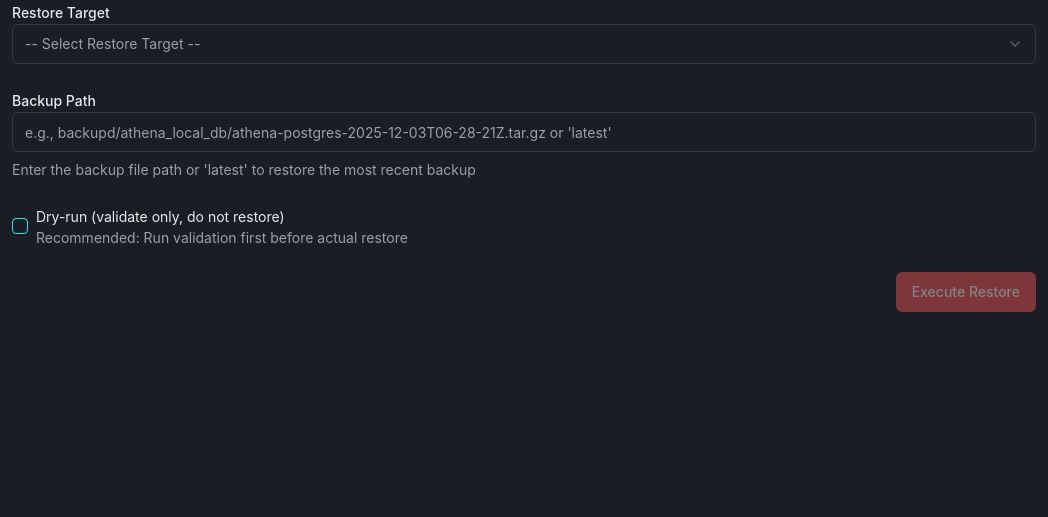
Test: RestoreForm Component › shows target description when target is selected
Click the dropdown labelled "-- Select Restore Target --".
click(113, 44)  # box [12,24,1036,64]
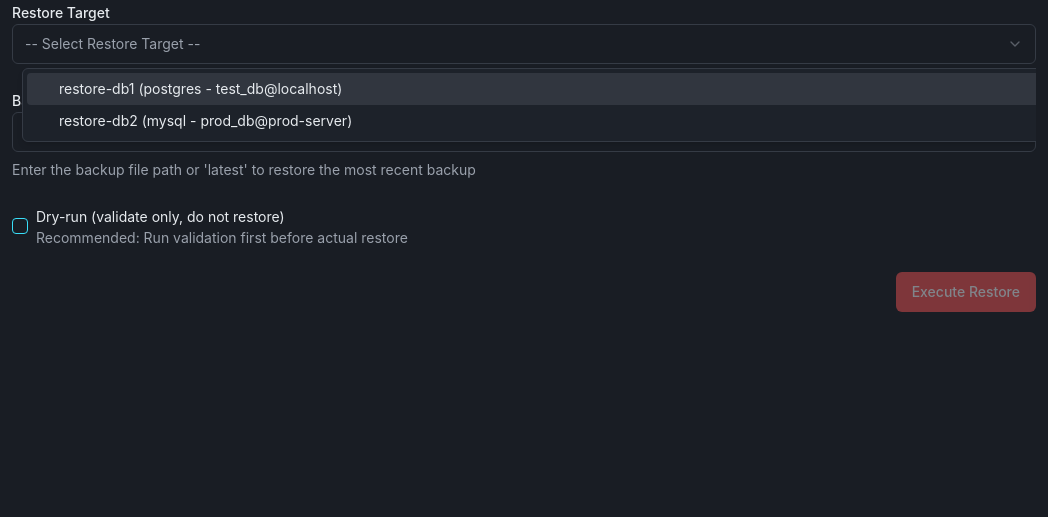
Click the option "restore-db1 (postgres - test_db@localhost)".
click(97, 88)  # box [27,73,1036,105]
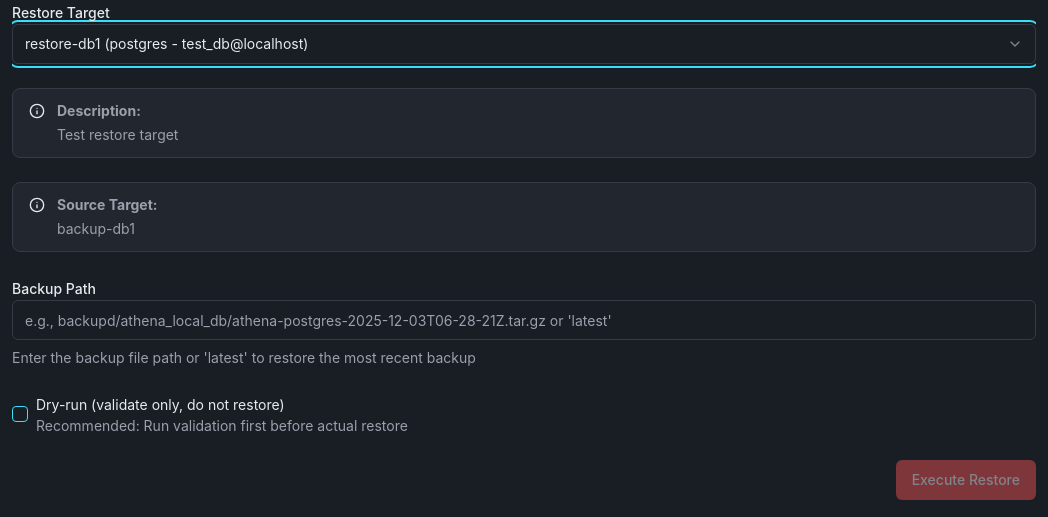
Now the text "Description: Test restore target" is shown, box [57,102,178,143]
Now the text "Source Target: backup-db1" is shown, box [57,196,158,237]
